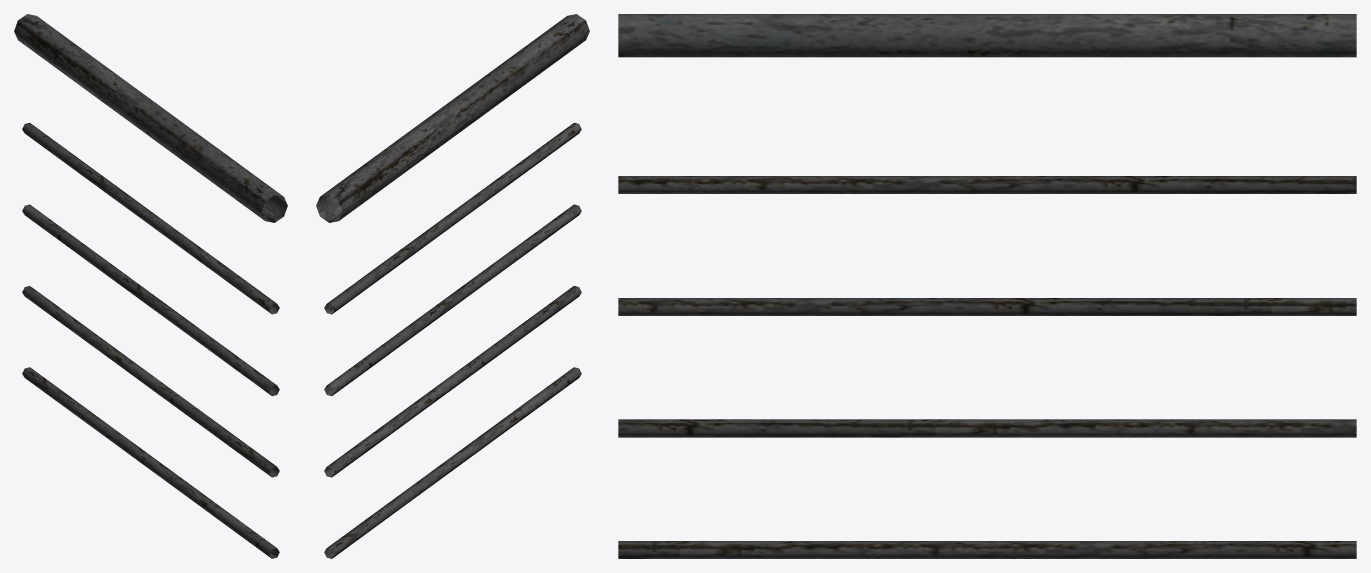
Rendered from p6_blackout_rail_simple_32_lod0.glb.
3 renders of one model, left to right at view 1: azimuth 30°, elevation 25°; view 2: azimuth 150°, elevation 25°; view 3: azimuth 270°, elevation 25°, orthographic. The views are drawn at different scales.
Parts seen in each view (by area): view 1: surf0; view 2: surf0; view 3: surf0.
Boxes of the visible parts, x1,y1,x2,y2 form: surf0: (14, 14, 287, 558); surf0: (316, 14, 589, 558); surf0: (618, 14, 1356, 558).
Bounding box in the file's own units: 1.99 × 25.94 × 32.
